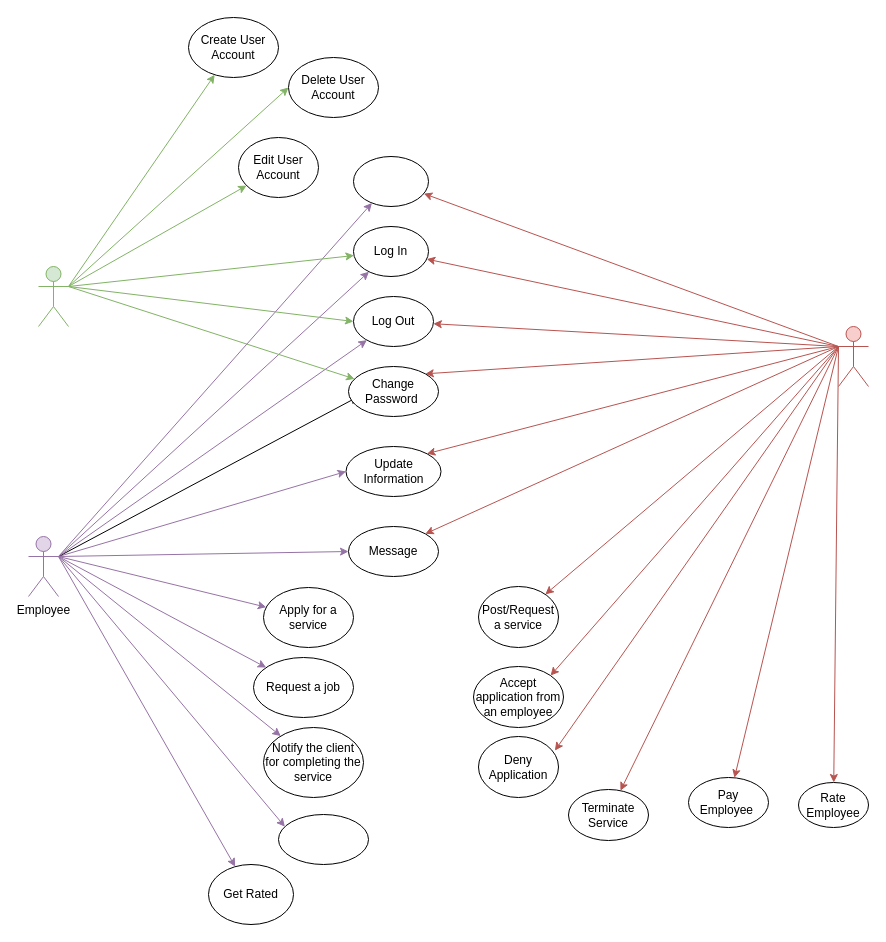
Image size: 886x942. Some labels were removed from this diagram. Here are the shapes that lost their labels. From the top down, the centre of each, then its label:
At [390,181]: "Register".
At [53,296]: "Administrator".
At [853,356]: "Client".
At [323,839]: "Get Paid".
